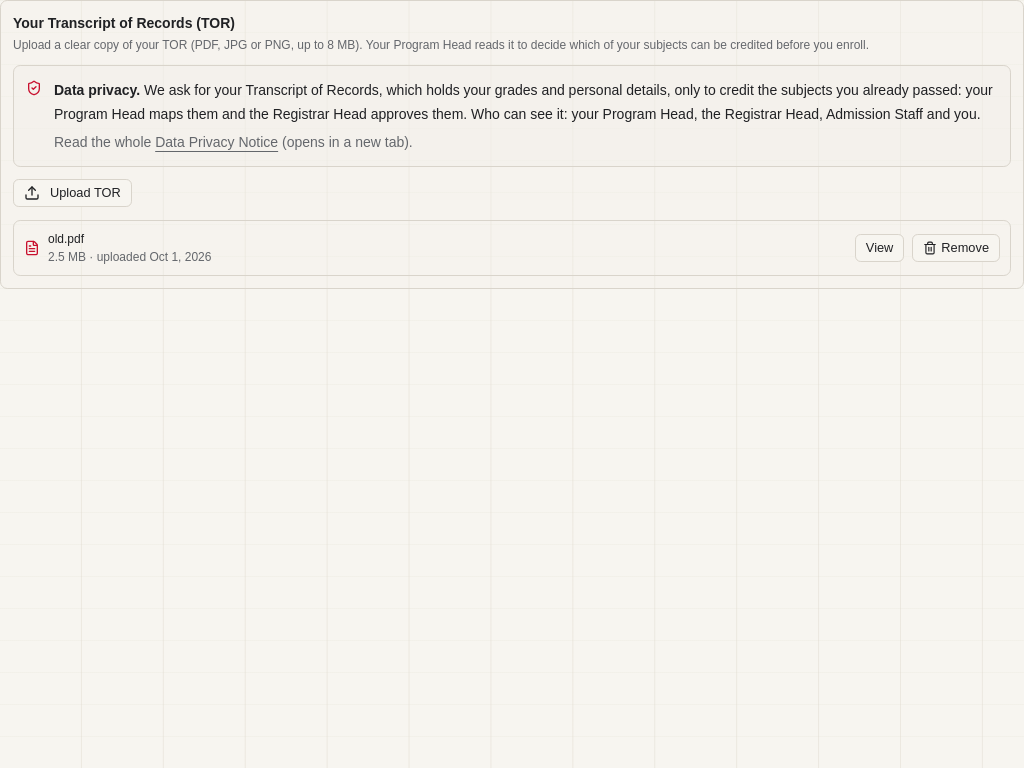
Test: StudentTorUpload › removes one of the student's own files
The image size is (1024, 768).
Click the button with aria-label "Remove old.pdf" at (956, 248), box x1=912 y1=234 x2=1000 y2=262
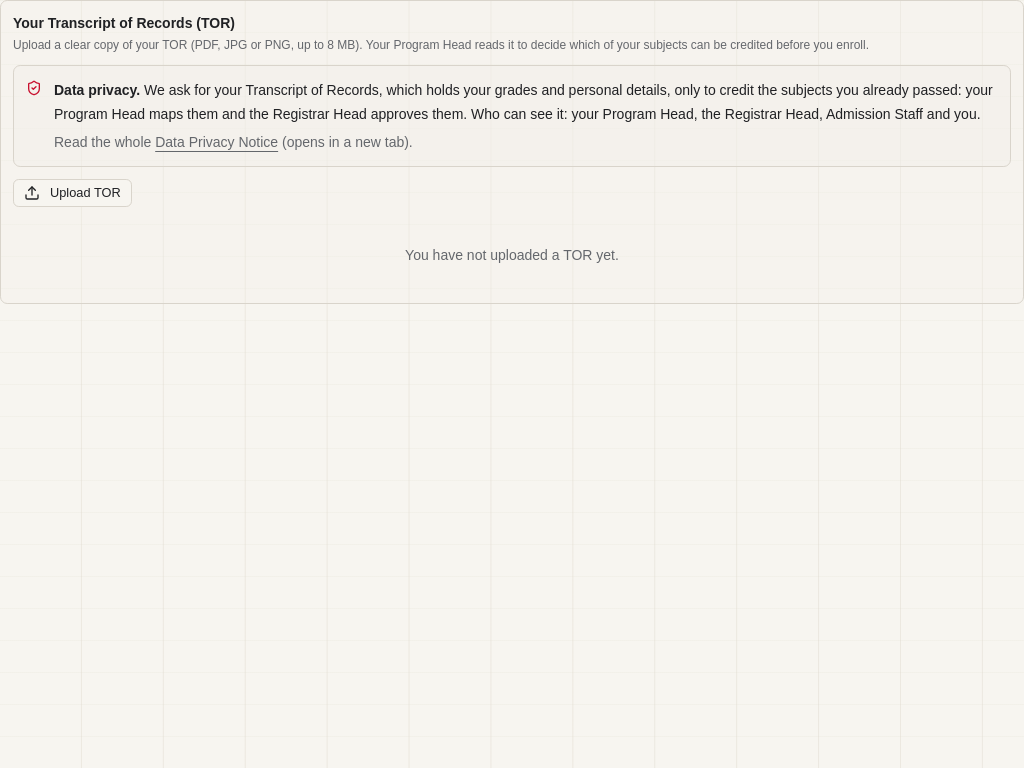
Expected: the text "You have not uploaded a TOR yet." is shown, x1=405 y1=244 x2=619 y2=267
